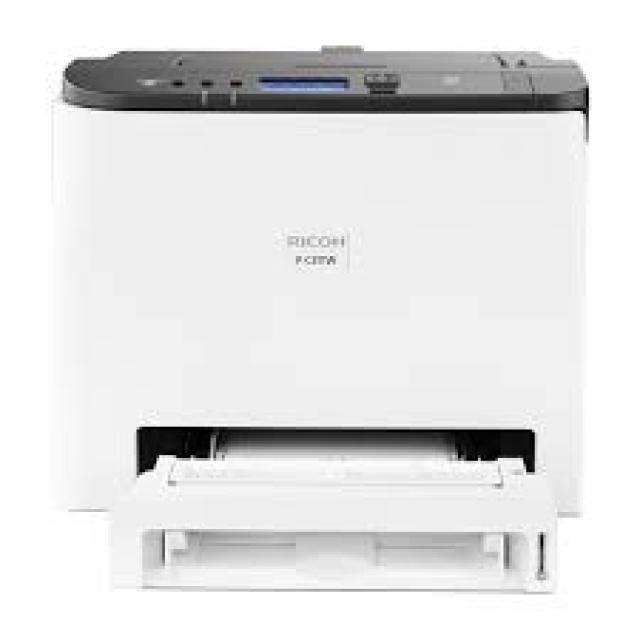printer: (48, 42, 589, 594)
